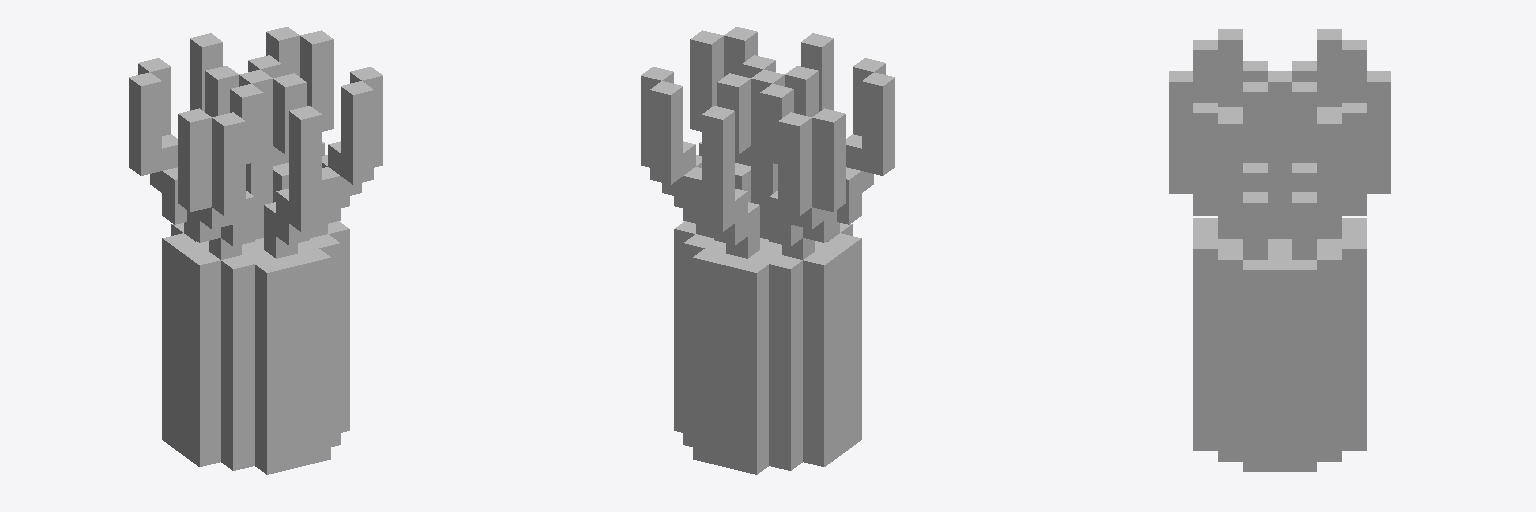
The model's file is abacaxi.obj.
The picture shows the model from 3 angles: view 1: azimuth 30°, elevation 25°; view 2: azimuth 150°, elevation 25°; view 3: azimuth 270°, elevation 25°; orthographic projection.
Parts seen in each view (by area): view 1: abacaxi; view 2: abacaxi; view 3: abacaxi.
Boxes of the visible parts, box(x1,y1,x2,y2) form: abacaxi: box(129, 27, 382, 474); abacaxi: box(641, 27, 894, 474); abacaxi: box(1169, 29, 1390, 471).
Size of the model in its own units: 9 by 16 by 9.